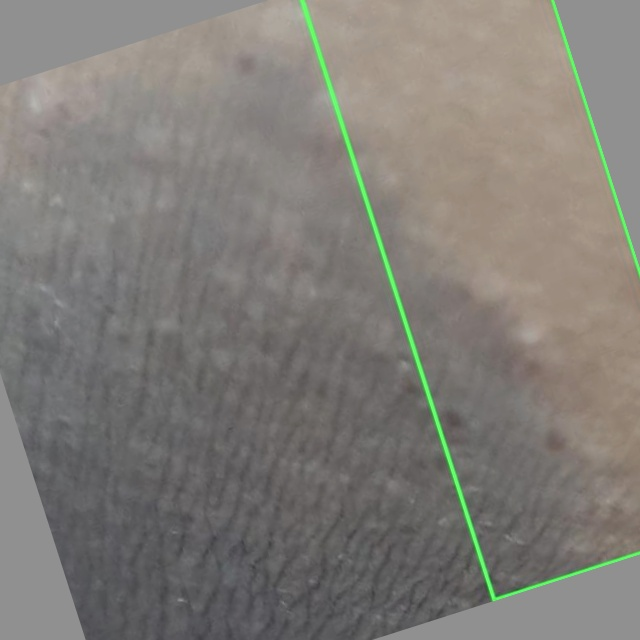Tinea Corporis: (302, 0, 639, 600)
